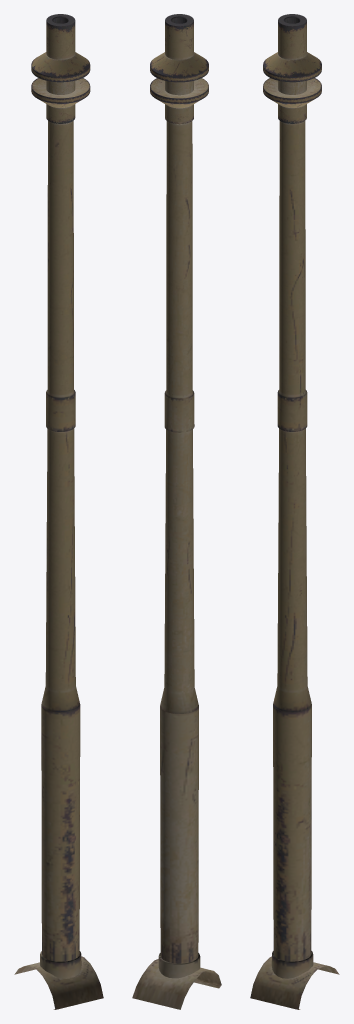
The model's file is Gun_04.glb.
The picture shows the model from 3 angles, left to right: view 1: azimuth 30°, elevation 25°; view 2: azimuth 150°, elevation 25°; view 3: azimuth 330°, elevation 25°; orthographic projection.
Parts seen in each view (by area): view 1: set_0_group_0; view 2: set_0_group_0; view 3: set_0_group_0.
Boxes of the visible parts, left/top/right/bottom form: set_0_group_0: left=14, top=14, right=103, bottom=1009; set_0_group_0: left=132, top=14, right=221, bottom=1009; set_0_group_0: left=250, top=14, right=339, bottom=1009.
Size of the model in its own units: 0.336 by 6.11 by 0.4691.
Materials: 1 (1 with a texture image).
